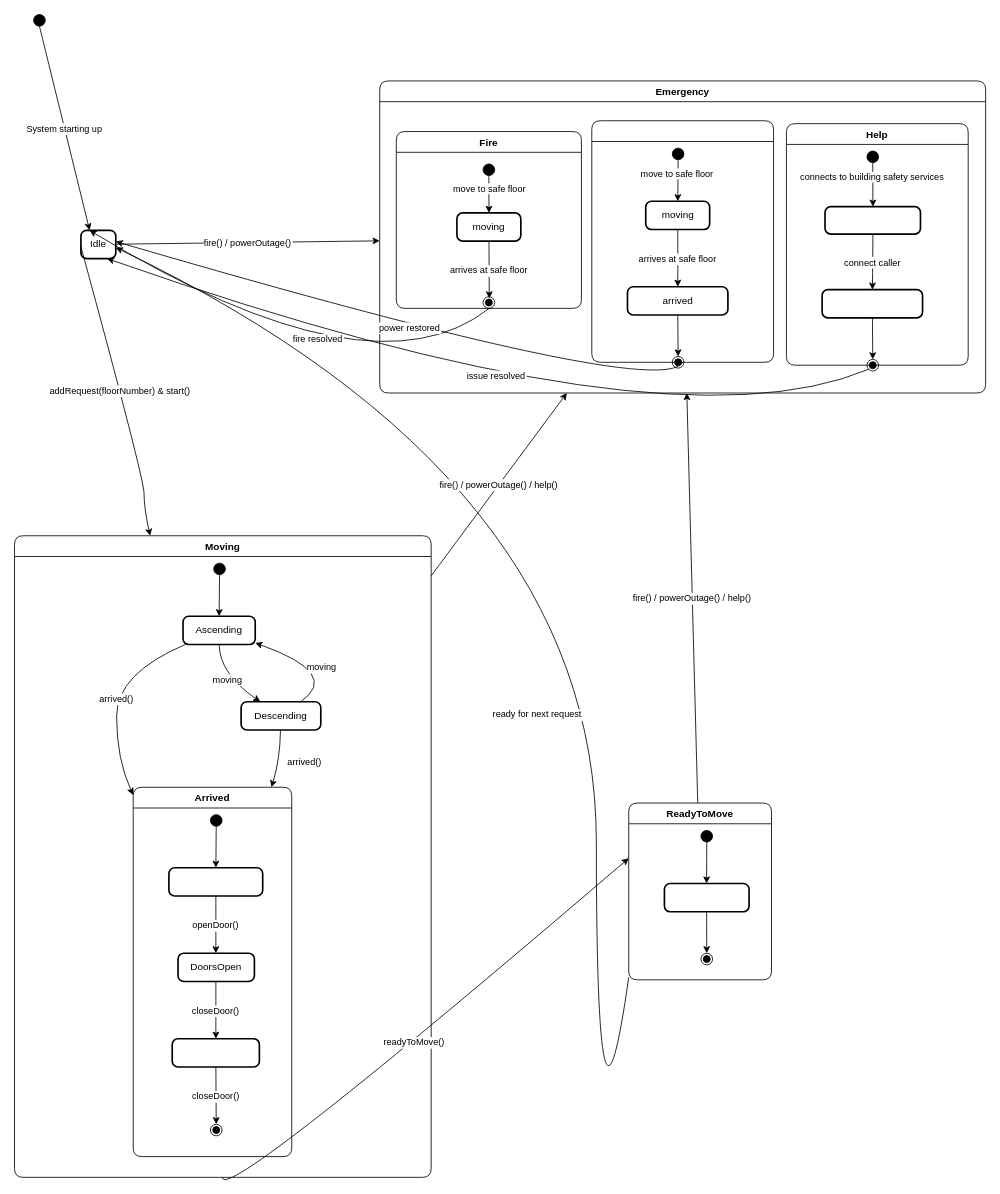
The diagram is 1000 pixels wide and 1194 high, and some of its shapes have lost their labels. Here are the shapes that lost their labels. From the top down, the box of each, then its label:
(824, 205, 921, 234): building safety services connected
(591, 120, 774, 362): PowerOutage
(821, 288, 923, 318): speaking
(168, 867, 263, 896): DoorsOpening
(663, 882, 749, 912): DoorsClosed
(171, 1038, 260, 1067): DoorsClosing
